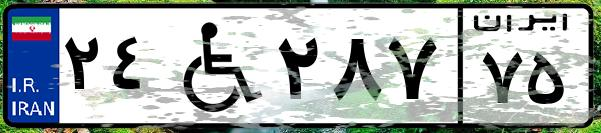2: (270, 28, 330, 110), (57, 26, 110, 100)
4: (110, 28, 158, 98)
5: (525, 38, 570, 115)
7: (385, 28, 445, 110), (475, 38, 525, 113)
8: (330, 28, 385, 110)
ژ (معلولین و جانبازان): (158, 12, 270, 120)
